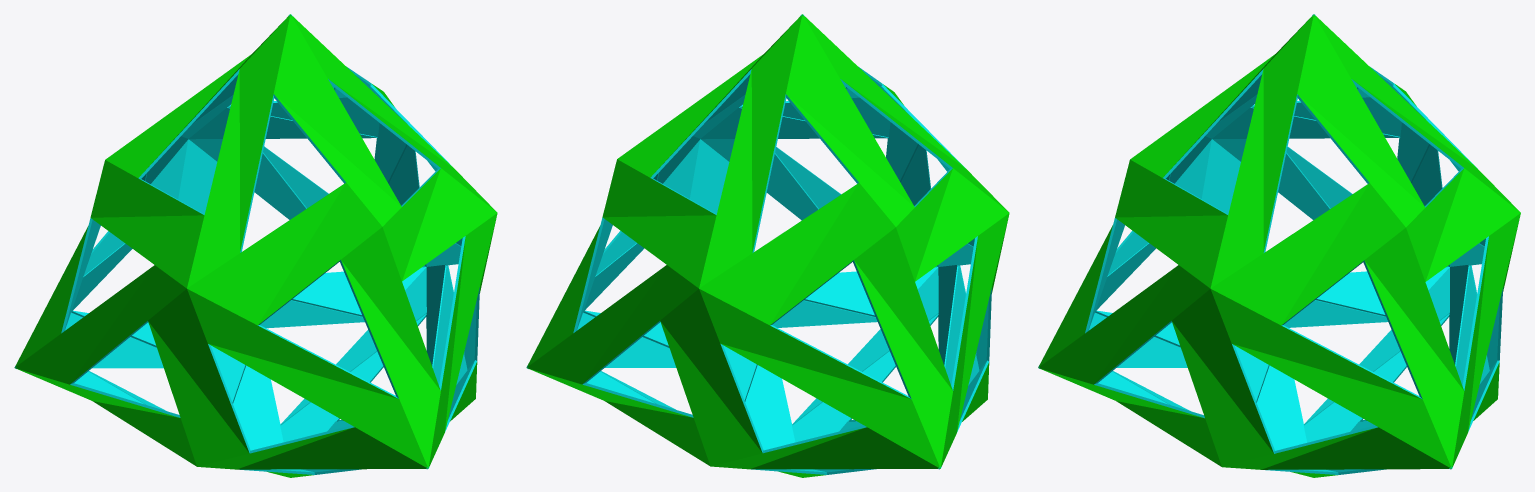
Rendered from HexakisTetrahedron.glb.
The picture shows the model from 3 angles, left to right: view 1: azimuth 30°, elevation 25°; view 2: azimuth 150°, elevation 25°; view 3: azimuth 270°, elevation 25°; orthographic projection.
Parts seen in each view (by area): view 1: root; view 2: root; view 3: root.
Part boxes in pixels (x1,y1,x2,y2): root: (14, 14, 497, 477); root: (526, 14, 1009, 477); root: (1038, 14, 1520, 477).
Size of the model in its own units: 8.82 by 9.44 by 8.91.
